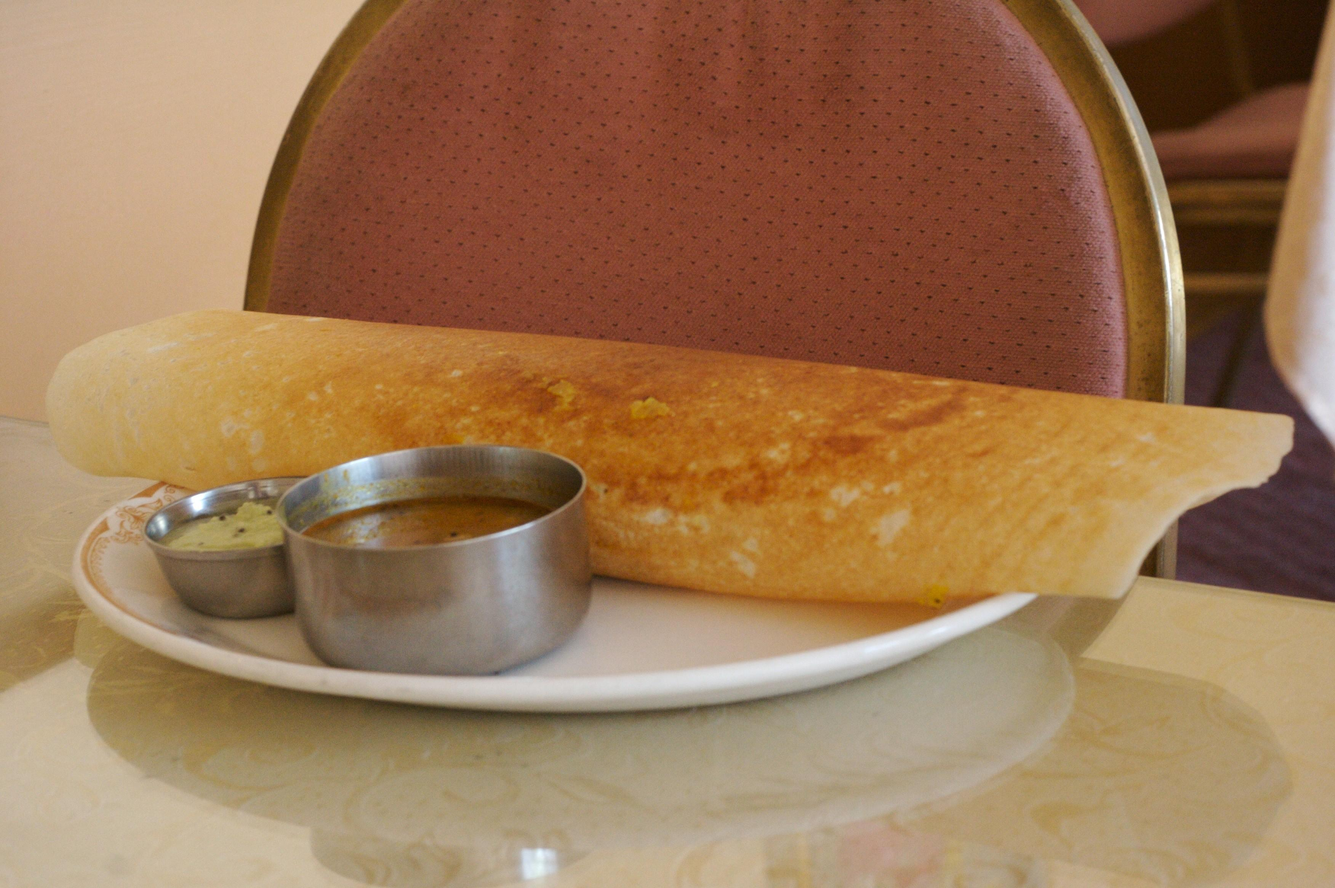CoconutChutney: (157, 499, 287, 551)
Dosa: (44, 312, 1291, 602)
